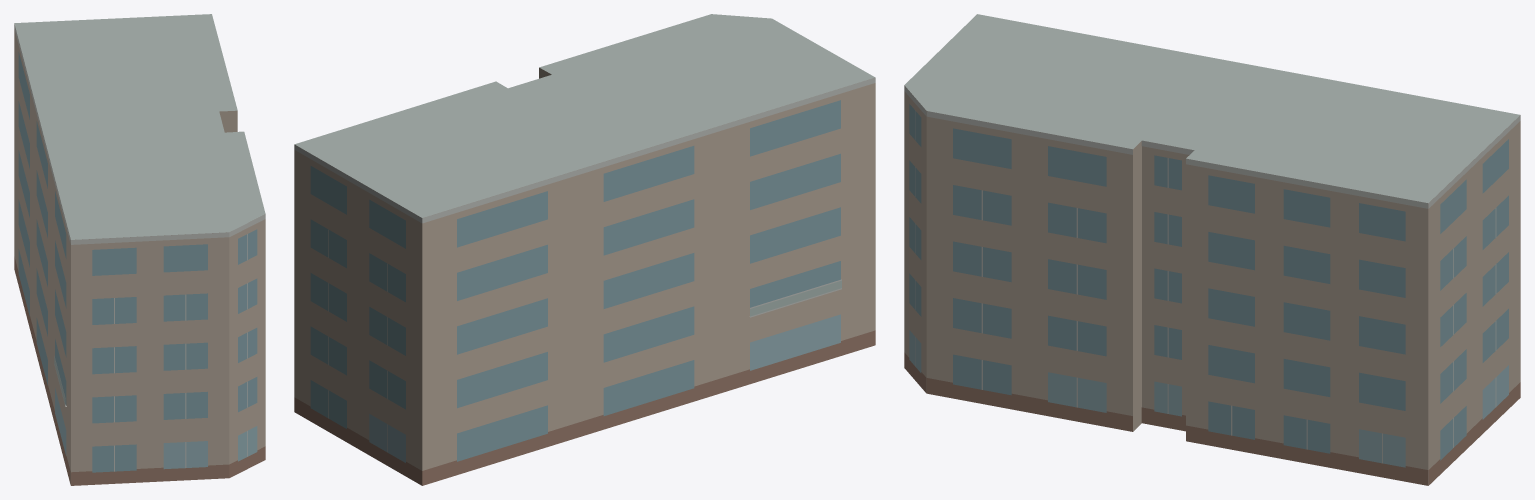
The model's file is survey-upis-32672067.glb.
3 renders of one model, left to right at view 1: azimuth 30°, elevation 25°; view 2: azimuth 150°, elevation 25°; view 3: azimuth 270°, elevation 25°, orthographic. The views are drawn at different scales.
Visible parts, largest first — view 1: survey-upis-32672067.tmp; view 2: survey-upis-32672067.tmp; view 3: survey-upis-32672067.tmp.
Boxes of the visible parts, box(x1,y1,x2,y2) form: survey-upis-32672067.tmp: box(14, 14, 265, 485); survey-upis-32672067.tmp: box(294, 14, 875, 485); survey-upis-32672067.tmp: box(904, 14, 1520, 485).
Bounding box in the file's own units: 17.38 × 12.1 × 23.92.
